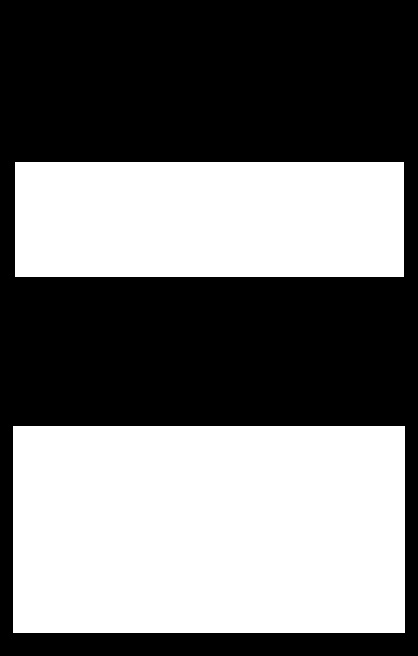table: (13, 426, 404, 632), (15, 162, 403, 276)
